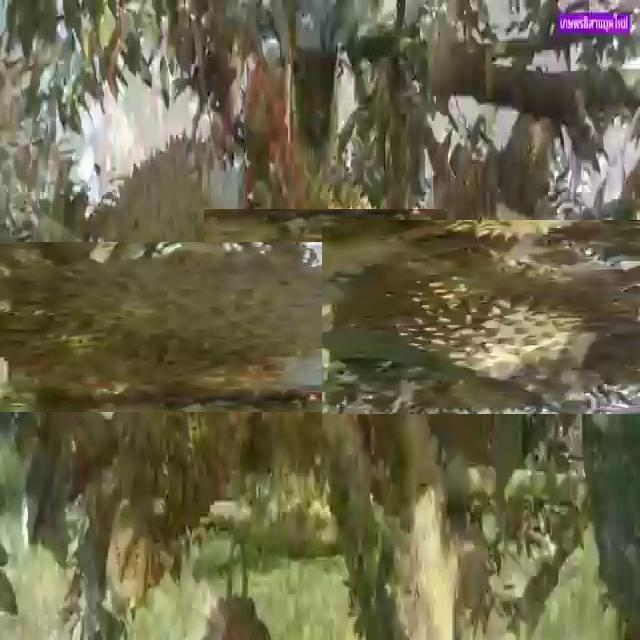durian: (31, 179, 329, 476), (352, 189, 610, 445), (225, 187, 425, 386)
